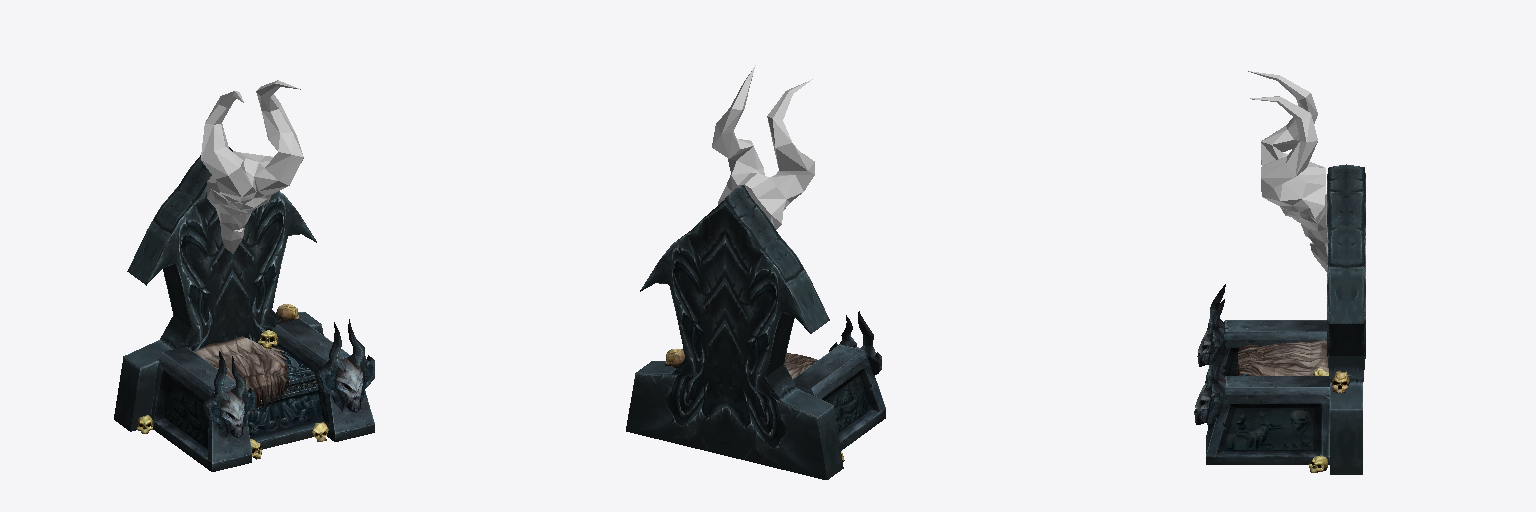
3 renders of one model, left to right at view 1: azimuth 30°, elevation 25°; view 2: azimuth 150°, elevation 25°; view 3: azimuth 270°, elevation 25°, orthographic.
Parts seen in each view (by area): view 1: IceCrown_Throne; view 2: IceCrown_Throne; view 3: IceCrown_Throne.
Boxes of the visible parts, x1=… form: IceCrown_Throne: x1=114, y1=80, x2=374, y2=471; IceCrown_Throne: x1=626, y1=65, x2=885, y2=479; IceCrown_Throne: x1=1194, y1=71, x2=1365, y2=474.
Bounding box in the file's own units: 9.13 × 14.84 × 6.73.
9 materials, 7 textured.